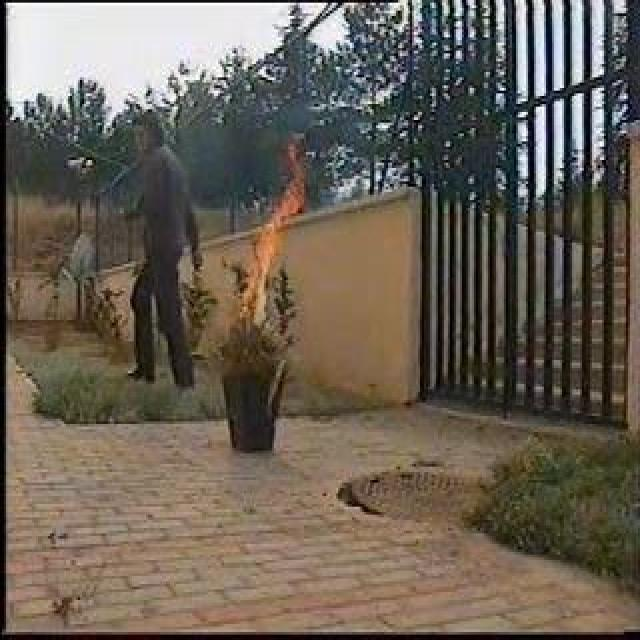fire: (238, 133, 310, 320)
